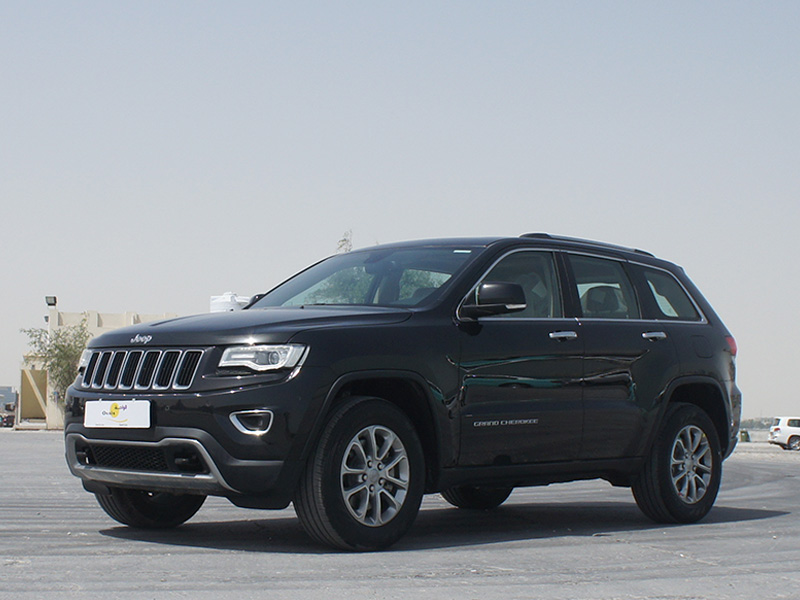other: (70, 230, 743, 540)
